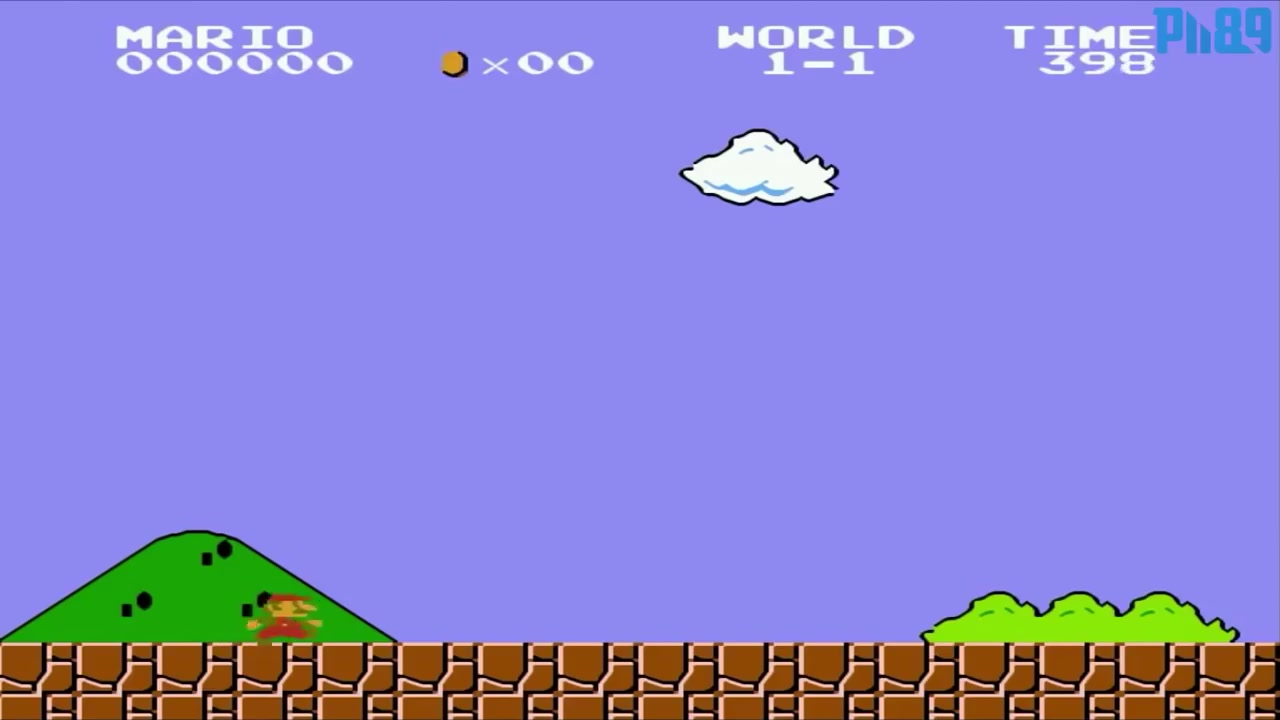mario: (234, 585, 328, 646)
